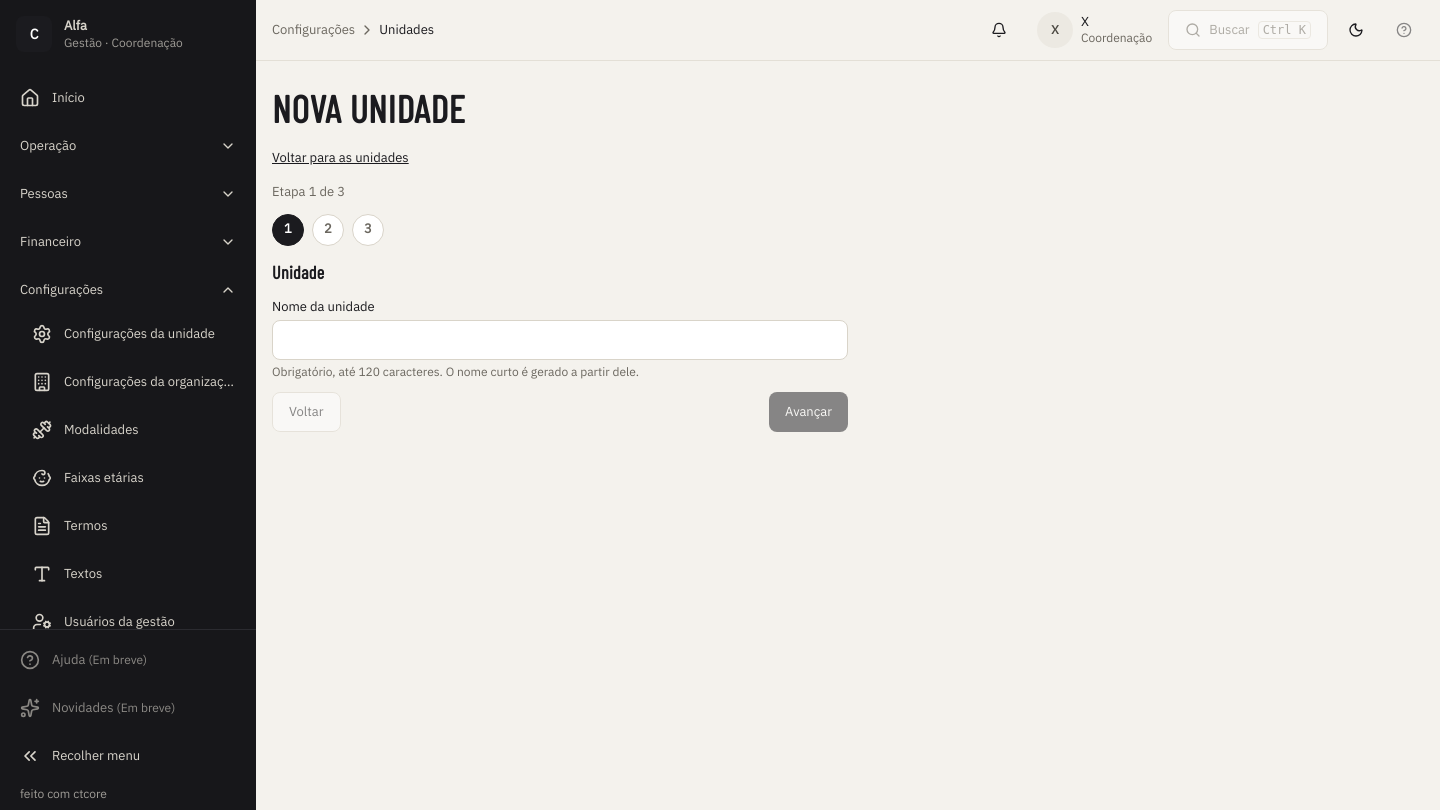
Test case: NewUnitPage › CA13: falha do servidor mostra o erro
The width and height of the screenshot is (1440, 810).
Type "Nova" into the field labelled "Nome da unidade" at (560,340), box [272,320,848,360]
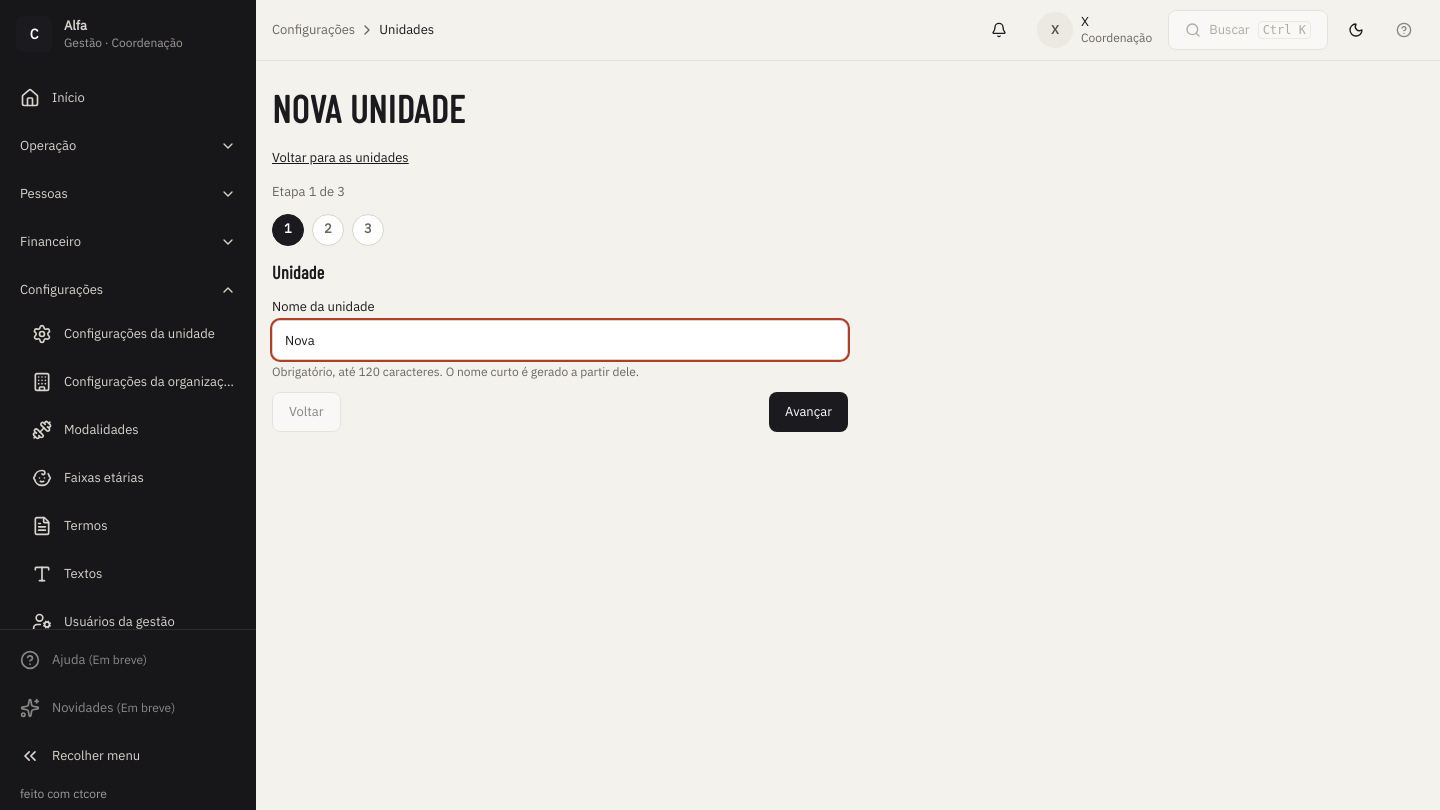
Click the button "Avançar" at (809,412), box [769,392,848,432]
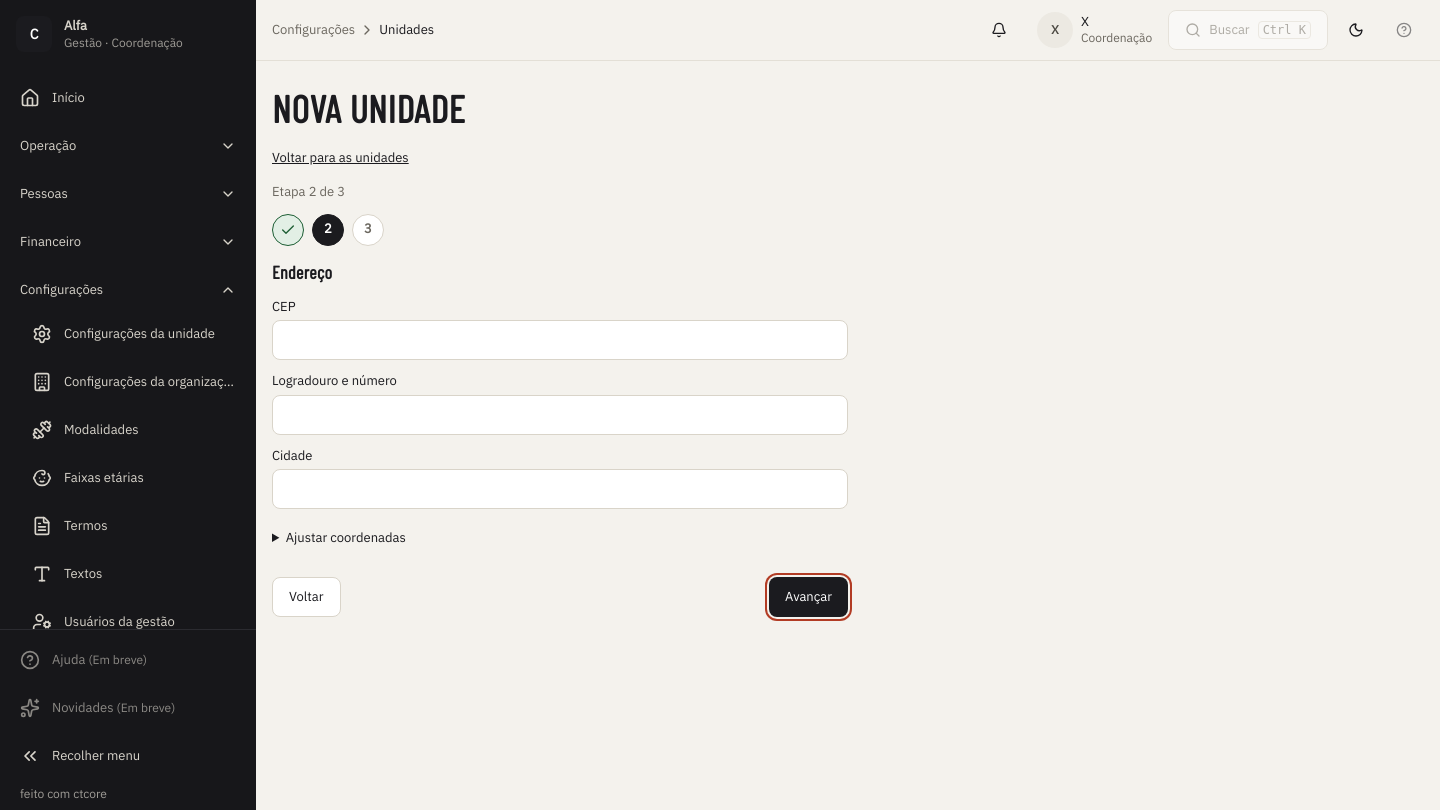
Click the button "Avançar" at (809,597), box [769,577,848,617]
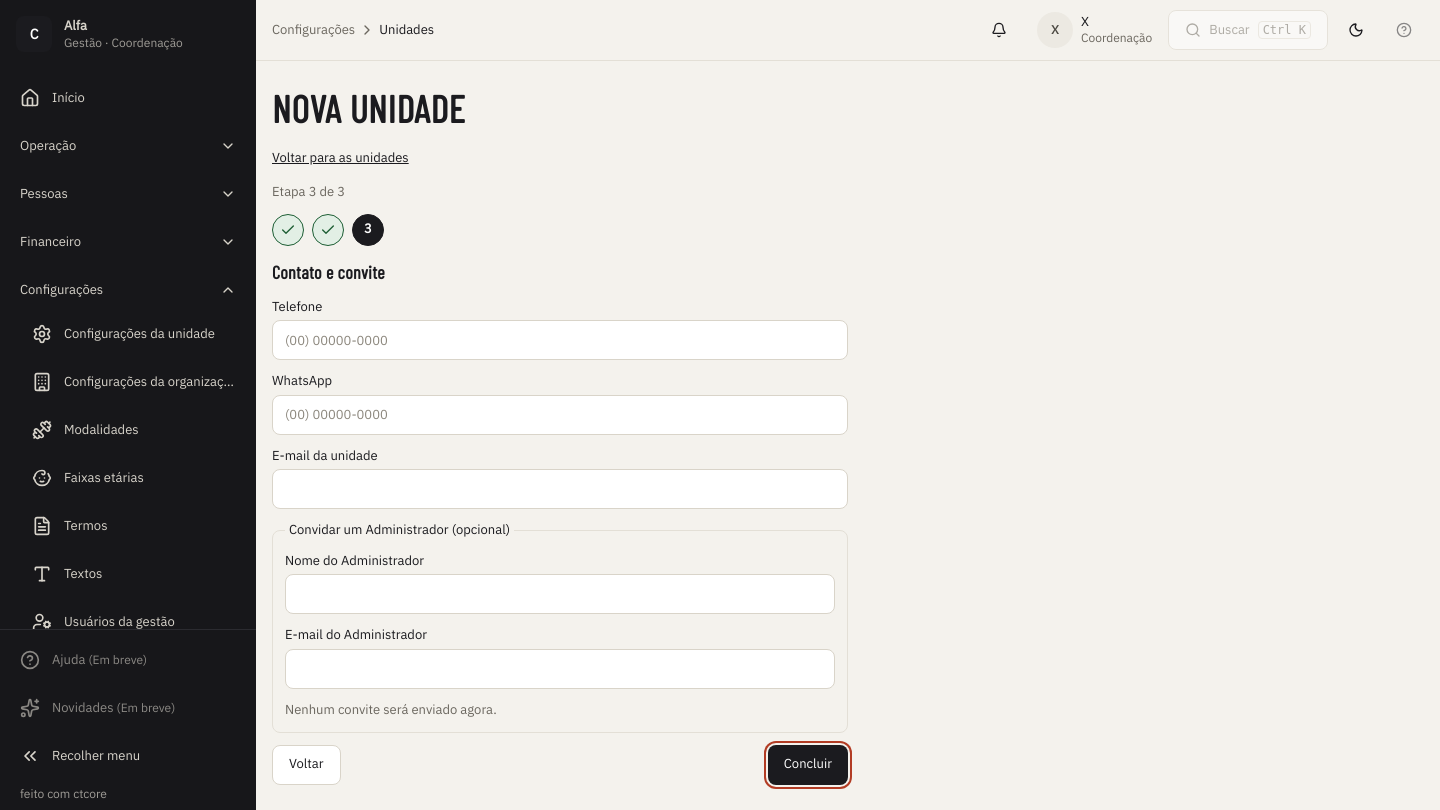
Click the button "Concluir" at (808,765), box [768,745,848,785]
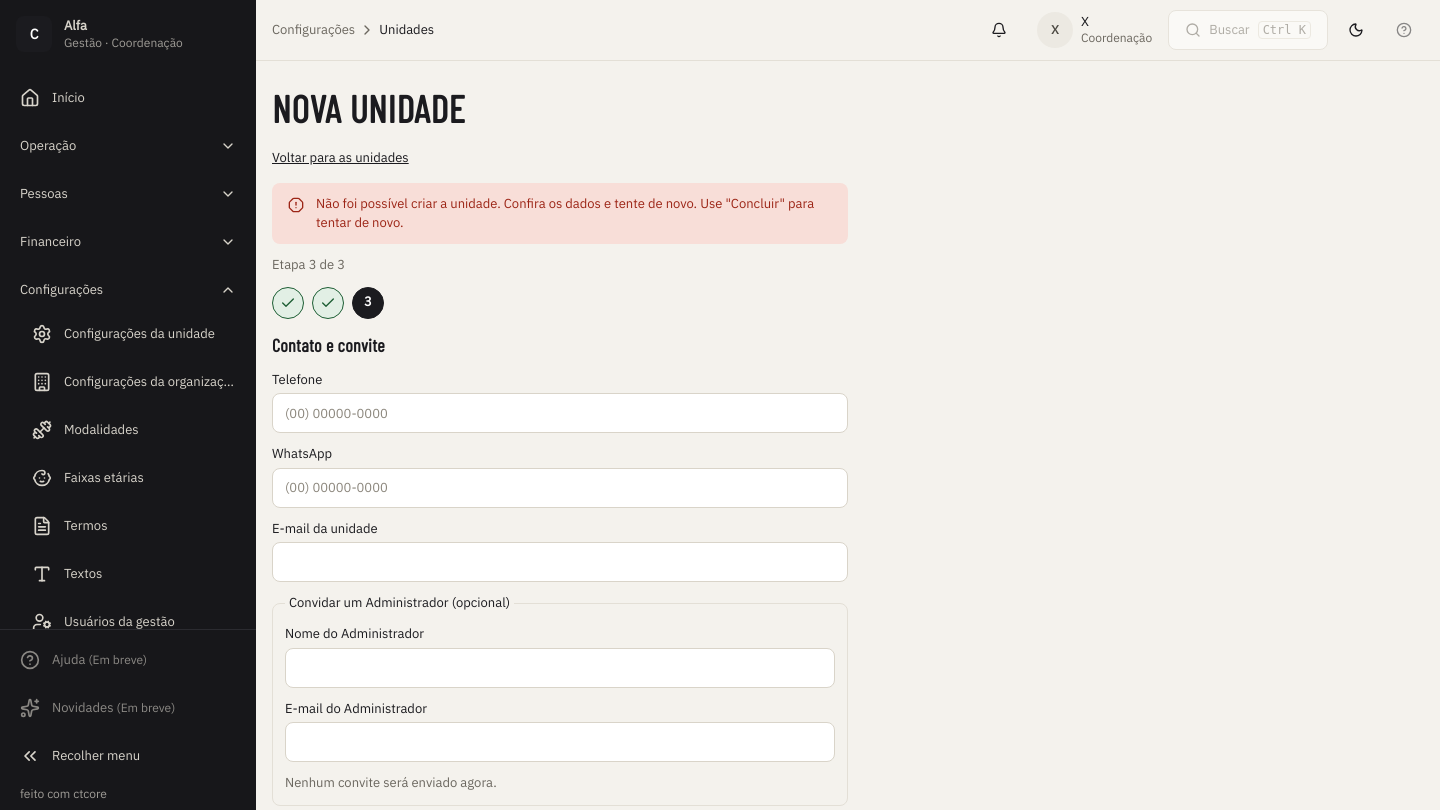
Check: the 1st message shows "Não foi possível criar a unidade", box [316,195,697,212]
